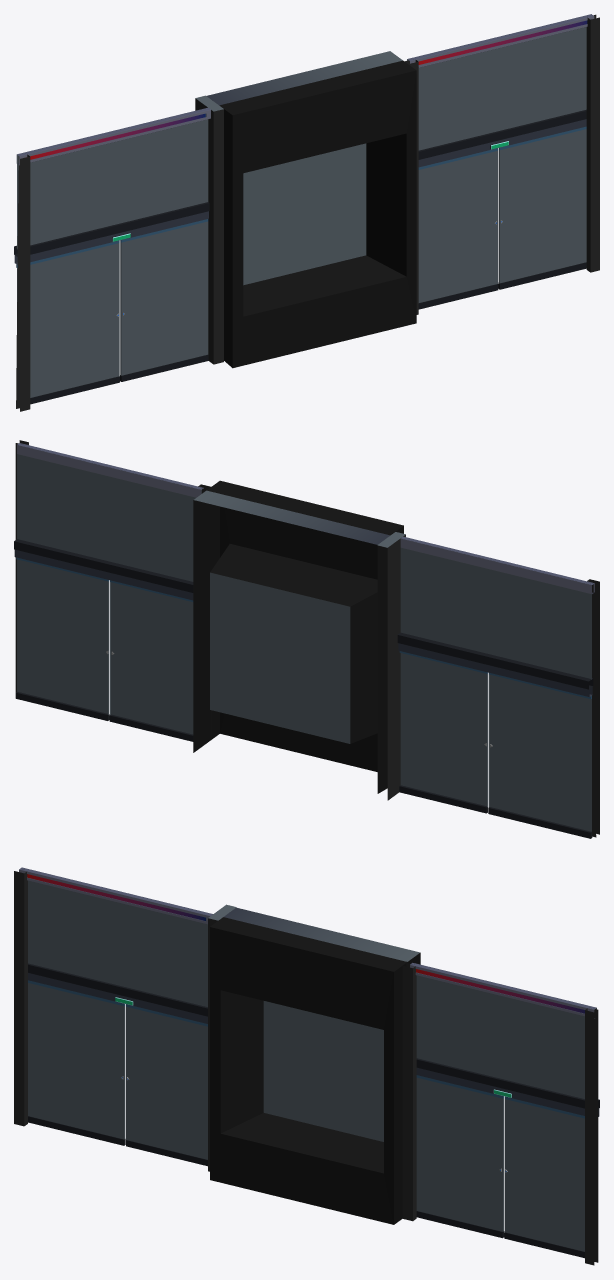
File: Wall_Door_12x5x2_001_L0.fbx
The picture shows the model from 3 angles, top to bottom: view 1: azimuth 30°, elevation 25°; view 2: azimuth 150°, elevation 25°; view 3: azimuth 330°, elevation 25°; orthographic projection.
Parts seen in each view (by area): view 1: Wall_Door_12x5x2_001_L0; view 2: Wall_Door_12x5x2_001_L0; view 3: Wall_Door_12x5x2_001_L0.
Boxes of the visible parts, left/top/right/bottom form: Wall_Door_12x5x2_001_L0: left=14, top=14, right=599, bottom=411; Wall_Door_12x5x2_001_L0: left=14, top=440, right=599, bottom=838; Wall_Door_12x5x2_001_L0: left=14, top=867, right=599, bottom=1265.
Size of the model in its own units: 12 by 1.08 by 5.
